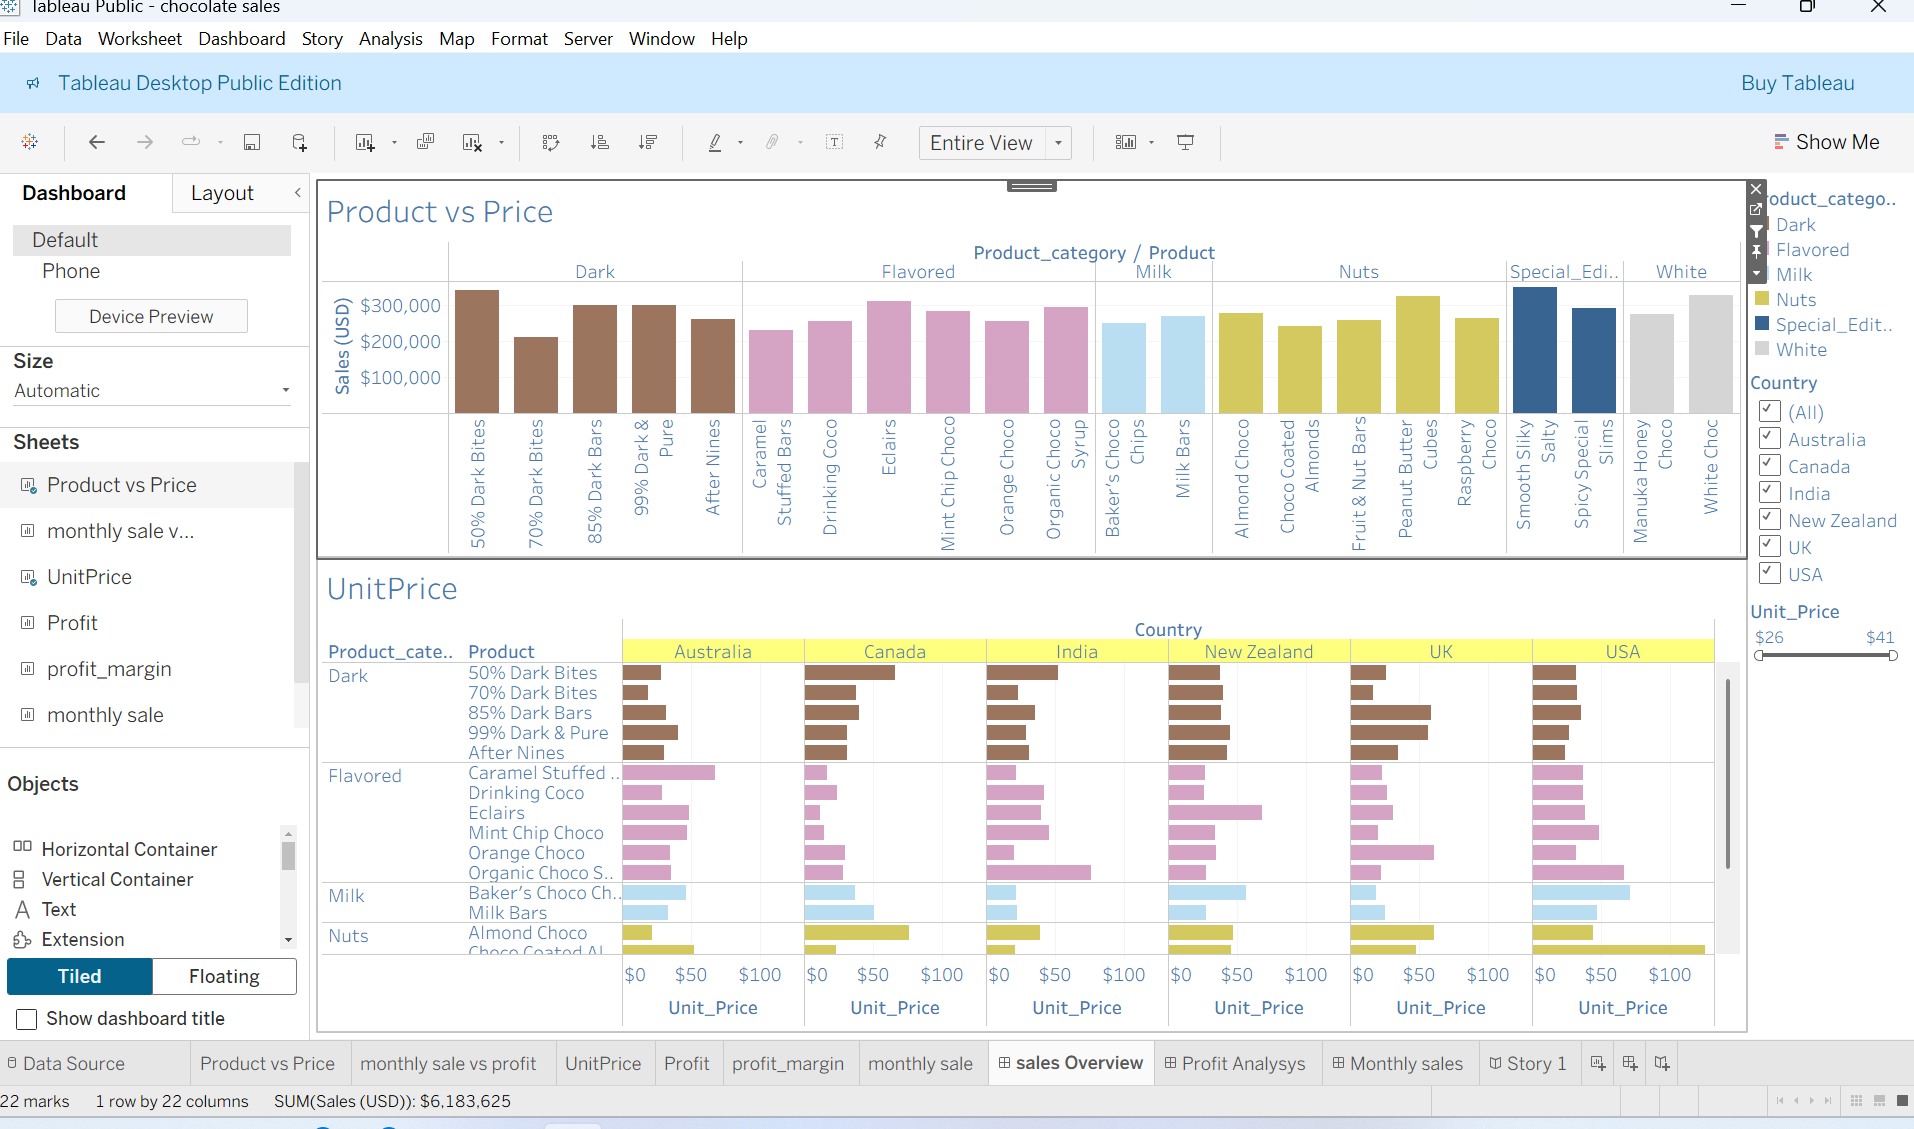

What the dashboard file says about the page in this screenshot:
{"tool":"tableau","page":{"name":"sales Overview","canvas":[1000,1000],"units":"permille","ordinal":2},"visuals":[{"type":"worksheet","title":"Product vs Price","mark":"Automatic","rows":["Calculation_1430174423173509122"],"cols":["Product"],"box":[5,9.2,890.1,435.3]},{"type":"legend","title":"Product vs Price","param":"[federated.1tjpulj03pkjac1d1enix0oqddwb].[Product_category]","box":[895.1,9.2,99.8,212.5]},{"type":"filter","title":"Product vs Price","param":"[federated.1tjpulj03pkjac1d1enix0oqddwb].[none:Country:nk]","box":[895.1,221.7,99.8,264.4]},{"type":"worksheet","title":"UnitPrice","mark":"Automatic","rows":["Product"],"cols":["Country","Calculation_723953706806108160"],"box":[5,444.6,890.1,546.2]},{"type":"filter","title":"Product vs Price","param":"[federated.1tjpulj03pkjac1d1enix0oqddwb].[usr:Calculation_723953706806108160:qk]","box":[895.1,486.2,99.8,88.9]}]}

Visuals, with their boxes on the dashboard's canvas, which has no fixed pixel size, in thousandths of its width and height (x1, y1, x2, y2). These are canvas units, not pixel positions in the 1914x1129 screenshot, which may show the page scaled, cropped or inside an application window:
"Product vs Price" worksheet: bbox(5, 9, 895, 444)
"Product vs Price" legend: bbox(895, 9, 995, 222)
"Product vs Price" filter: bbox(895, 222, 995, 486)
"UnitPrice" worksheet: bbox(5, 445, 895, 991)
"Product vs Price" filter: bbox(895, 486, 995, 575)
